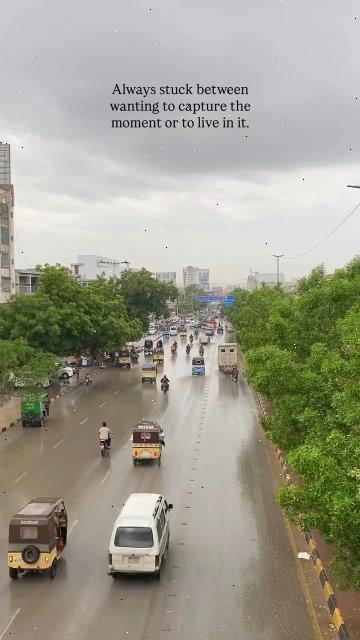Van: (104, 487, 177, 586)
